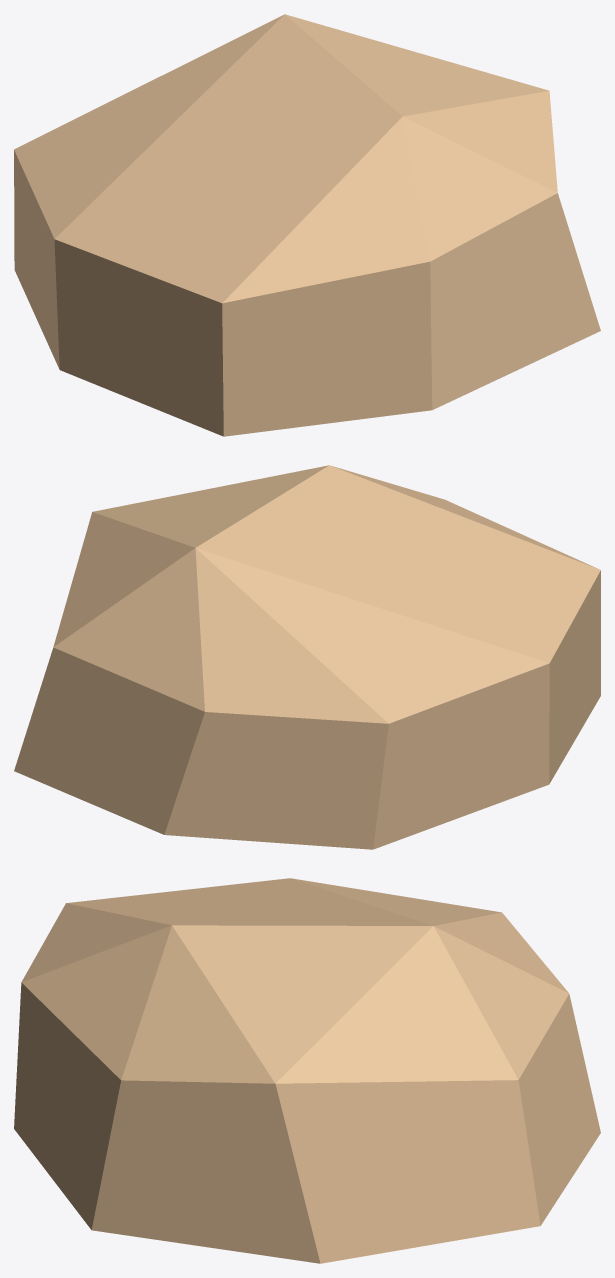
The model's file is Rock.009.fbx.
3 views of the same model, one above another, from view 1: azimuth 30°, elevation 25°; view 2: azimuth 150°, elevation 25°; view 3: azimuth 270°, elevation 25° (orthographic). The views are drawn at different scales.
Parts seen in each view (by area): view 1: Rock.009; view 2: Rock.009; view 3: Rock.009.
Boxes of the visible parts, x1,y1,x2,y2 form: Rock.009: [14, 14, 600, 436]; Rock.009: [14, 465, 600, 849]; Rock.009: [14, 878, 600, 1263].
Bounding box in the file's own units: 1.37 × 0.5869 × 1.34.
